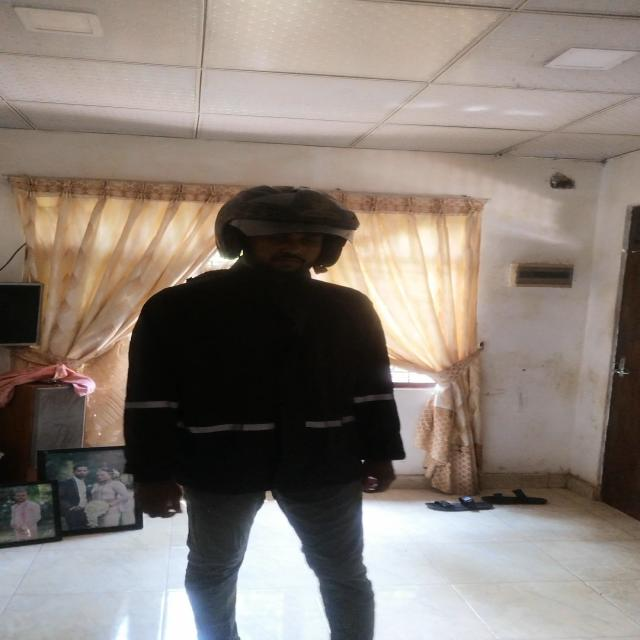Helmet_Wearer: (204, 180, 357, 288)
Jacket_Wearer: (123, 267, 404, 531)
Person: (121, 182, 408, 638)
